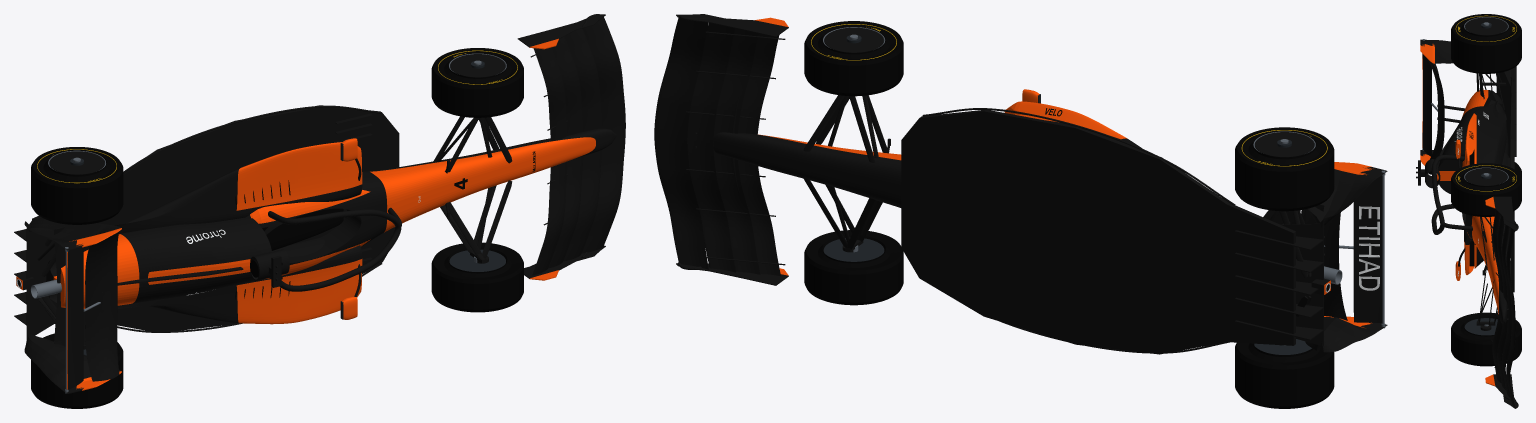
Rendered from mclaren-f1.glb.
3 views of the same model, side by side, from view 1: azimuth 30°, elevation 25°; view 2: azimuth 150°, elevation 25°; view 3: azimuth 270°, elevation 25° (orthographic). The views are drawn at different scales.
Parts seen in each view (by area): view 1: chassis/carbon_floor, chassis/engine_cover, chassis/papaya_nose_skin, chassis/left_sidepod_papaya, left_rear_wheel/tire, chassis/front_wing_element_0, chassis/right_sidepod_papaya, left_front_wheel/tire, right_front_wheel/tire, chassis/rear_wing_mainplane, chassis/monocoque_shell, chassis/left_sidepod (+22 smaller); view 2: chassis/carbon_floor, chassis/front_wing_element_0, chassis/monocoque_shell, chassis/front_wing_element_1, left_rear_wheel/tire, right_rear_wheel/tire, left_front_wheel/tire, right_front_wheel/tire, chassis/front_wing_element_2, chassis/front_wing_element_3, rear_drs_flap/drs_airfoil, chassis/rear_diffuser (+10 smaller); view 3: left_rear_wheel/tire, left_front_wheel/tire, right_front_wheel/tire, chassis/left_sidepod, chassis/engine_cover, chassis/papaya_nose_skin, rear_drs_flap/drs_airfoil, chassis/front_wing_element_0, chassis/front_wing_element_1, chassis/front_wing_element_2, chassis/front_wing_element_3, chassis/halo_horseshoe (+23 smaller).
Boxes of the visible parts, x1,y1,x2,y2 form: chassis/carbon_floor: (32,105,399,332); chassis/engine_cover: (46,217,271,303); chassis/papaya_nose_skin: (370,137,595,232); chassis/left_sidepod_papaya: (236,142,362,210); left_rear_wheel/tire: (31,147,123,224); chassis/front_wing_element_0: (581,17,625,253); chassis/right_sidepod_papaya: (236,259,362,324); left_front_wheel/tire: (431,48,523,117); right_front_wheel/tire: (431,242,523,312); chassis/rear_wing_mainplane: (85,231,119,381); chassis/monocoque_shell: (245,128,616,264); chassis/left_sidepod: (115,168,362,233); chassis/carbon_floor: (901,109,1295,354); chassis/front_wing_element_0: (654,18,708,269); chassis/monocoque_shell: (713,132,901,207); chassis/front_wing_element_1: (687,23,735,272); left_rear_wheel/tire: (1235,127,1334,211); right_rear_wheel/tire: (1235,342,1334,408); left_front_wheel/tire: (804,21,903,96); right_front_wheel/tire: (804,230,903,305); chassis/front_wing_element_2: (713,28,760,274); chassis/front_wing_element_3: (732,33,780,276); rear_drs_flap/drs_airfoil: (1353,175,1382,323); chassis/rear_diffuser: (1281,223,1323,346); left_rear_wheel/tire: (1451,14,1521,73); left_front_wheel/tire: (1451,163,1521,216); right_front_wheel/tire: (1451,312,1521,366); chassis/left_sidepod: (1474,91,1506,164); chassis/engine_cover: (1438,90,1508,193); chassis/papaya_nose_skin: (1471,216,1498,314); rear_drs_flap/drs_airfoil: (1422,54,1431,156); chassis/front_wing_element_0: (1506,228,1515,406); chassis/front_wing_element_1: (1501,225,1511,397); chassis/front_wing_element_2: (1497,215,1507,389); chassis/front_wing_element_3: (1492,209,1503,382); chassis/halo_horseshoe: (1431,155,1464,234).
Bounding box in the file's own units: 5.58 × 2.04 × 1.07.
